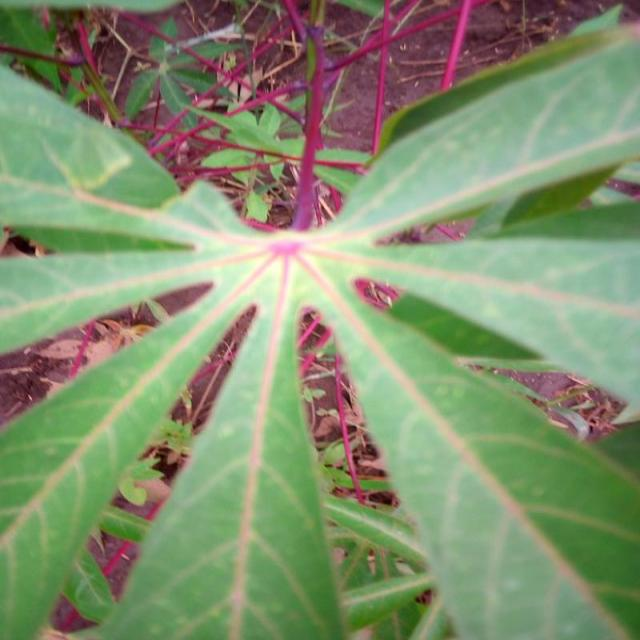cassava leaf: (0, 3, 638, 637)
